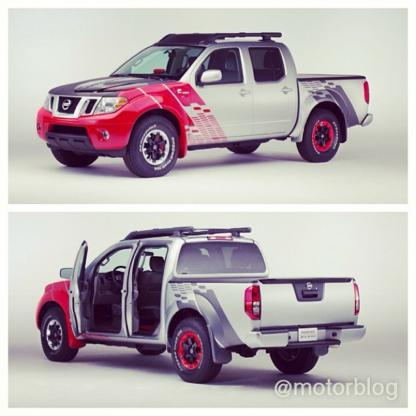Truck: (35, 226, 366, 384), (35, 32, 374, 178)
